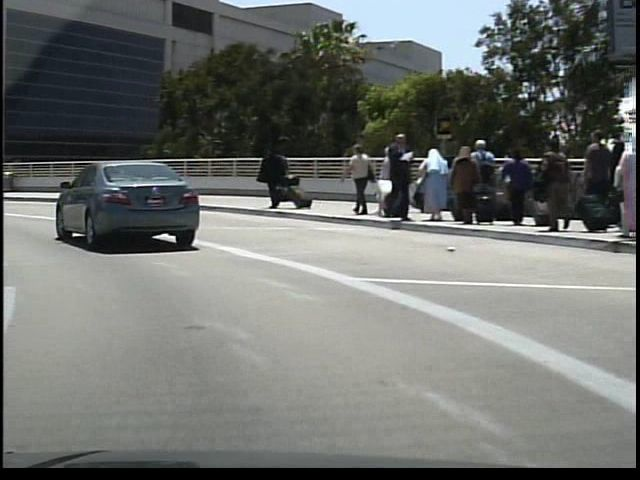person: (379, 129, 413, 224), (337, 139, 373, 218), (253, 144, 285, 210), (273, 152, 292, 203)
